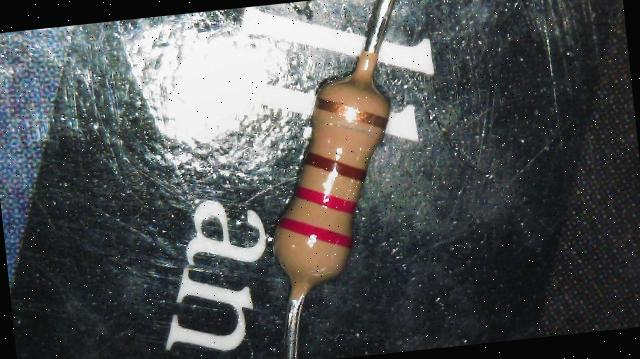brown: (302, 146, 367, 187)
gold: (314, 91, 388, 134)
red: (280, 210, 352, 253), (296, 181, 356, 218)
resistor: (239, 43, 423, 314)
